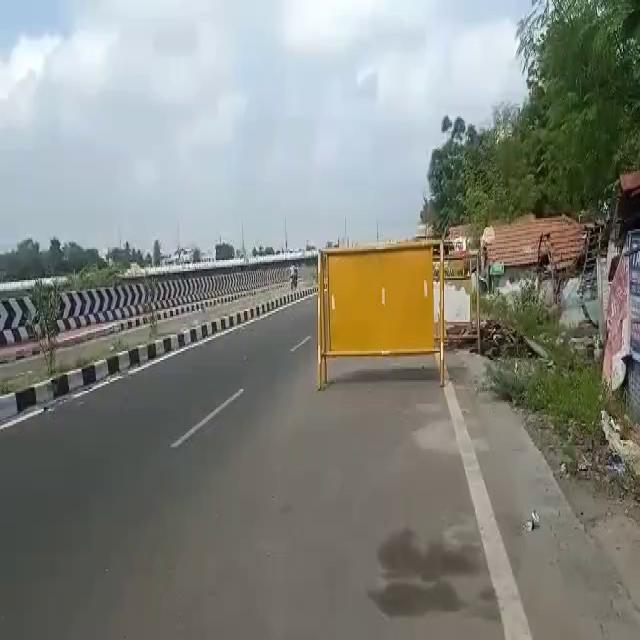fallen_object: (287, 225, 476, 394)
